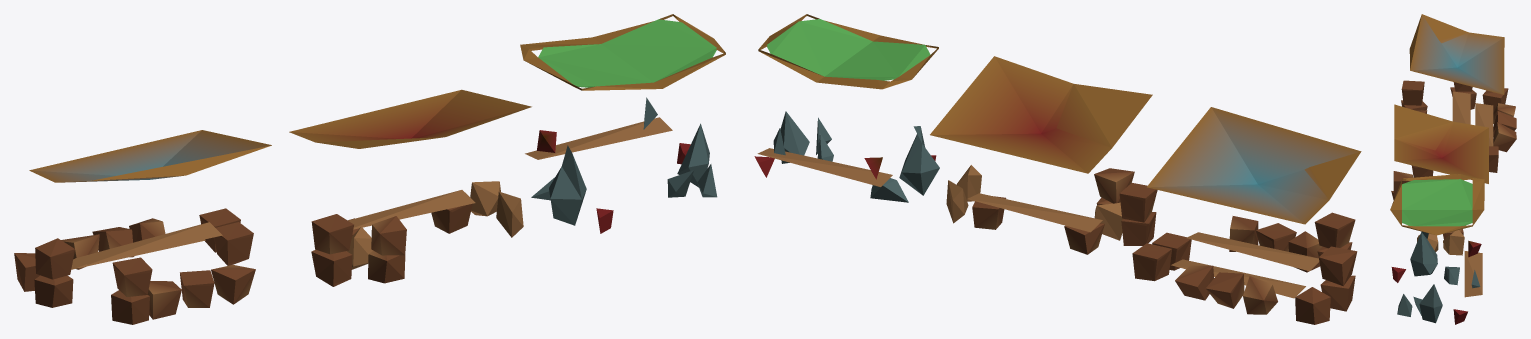
The model's file is market-props.lod1.glb.
The picture shows the model from 3 angles, left to right: view 1: azimuth 30°, elevation 25°; view 2: azimuth 150°, elevation 25°; view 3: azimuth 270°, elevation 25°; orthographic projection. The views are drawn at different scales.
Parts seen in each view (by area): view 1: polySurface433_Green_0; view 2: polySurface433_Green_0; view 3: polySurface433_Green_0.
Part boxes in pixels (x1,y1,x2,y2): polySurface433_Green_0: (14,14,725,324); polySurface433_Green_0: (754,14,1361,324); polySurface433_Green_0: (1390,14,1516,324).
Bounding box in the file's own units: 22.29 × 5.22 × 5.56.
